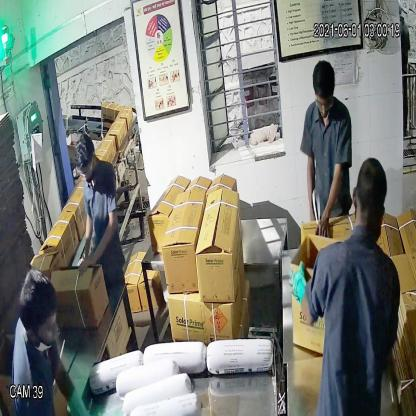goggles: (76, 158, 98, 183)
